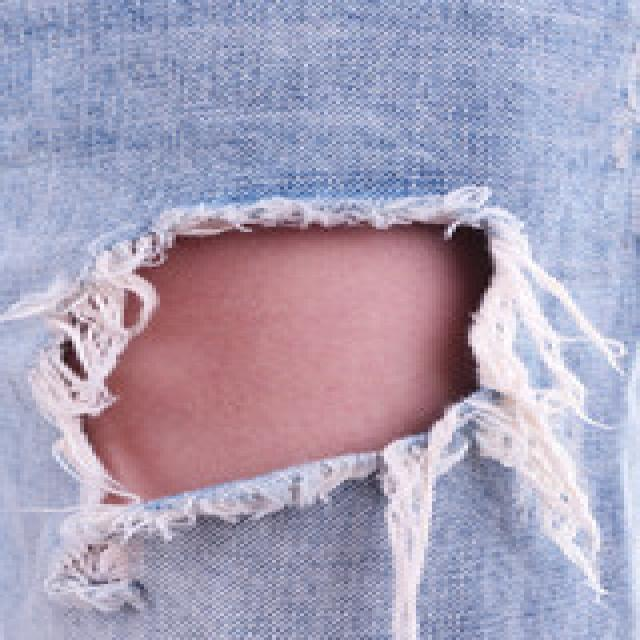Hole: (25, 188, 623, 640)
